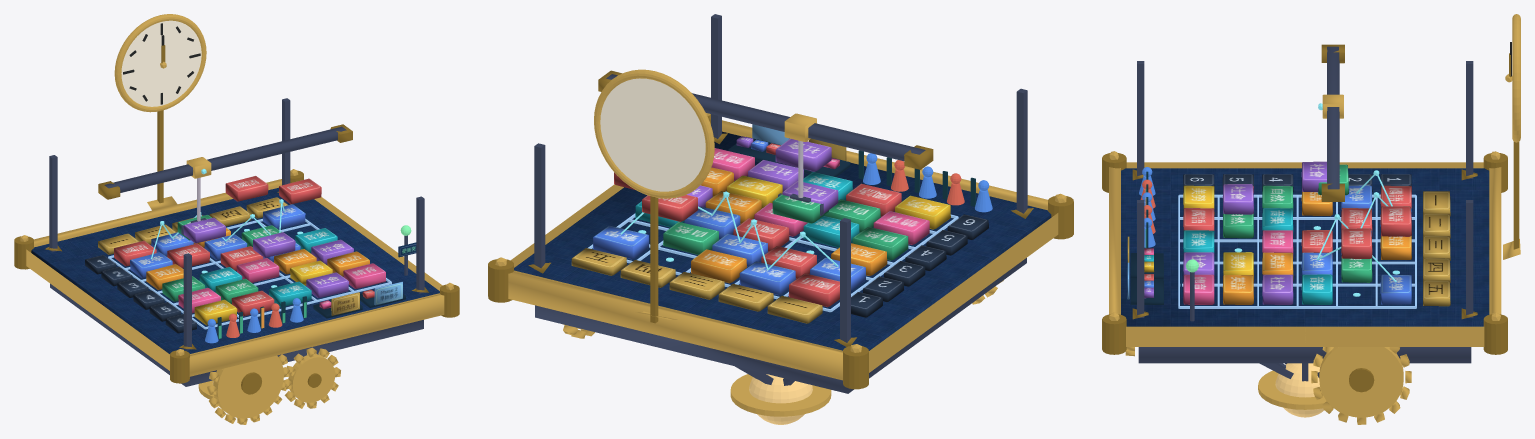
The model's file is scheduling.glb.
3 renders of one model, left to right at view 1: azimuth 30°, elevation 25°; view 2: azimuth 150°, elevation 25°; view 3: azimuth 270°, elevation 25°, orthographic. The views are drawn at different scales.
Parts seen in each view (by area): view 1: engine_brass, engine_board, engine_steel_dark, engine_dial, geara_brass, gantrybridge_steel_dark, engine_subj_數學, engine_subj_國語, engine_brass_dark, gearb_brass, engine_subj_體育, engine_subj_英語 (+19 smaller); view 2: engine_brass, engine_board, engine_steel_dark, engine_dial, engine_subj_數學, engine_subj_國語, engine_brass_dark, engine_subj_英語, engine_subj_自然, gantrybridge_steel_dark, engine_subj_體育, engine_subj_美勞 (+25 smaller); view 3: engine_board, engine_brass, engine_steel_dark, gearc_brass, engine_brass_dark, engine_grid_line, engine_subj_英語, engine_subj_國語, engine_subj_音樂, engine_subj_數學, engine_subj_自然, gantrybridge_steel_dark (+21 smaller).
Boxes of the visible parts, x1=… form: engine_brass: x1=20, y1=14, x2=453, y2=399; engine_board: x1=31, y1=187, x2=439, y2=353; engine_steel_dark: x1=49, y1=98, x2=424, y2=386; engine_dial: x1=121, y1=20, x2=201, y2=106; geara_brass: x1=207, y1=354, x2=289, y2=424; gantrybridge_steel_dark: x1=104, y1=126, x2=346, y2=192; engine_subj_數學: x1=130, y1=204, x2=305, y2=277; engine_subj_國語: x1=114, y1=240, x2=274, y2=316; engine_brass_dark: x1=14, y1=110, x2=459, y2=383; gearb_brass: x1=283, y1=347, x2=340, y2=408; engine_subj_體育: x1=178, y1=258, x2=385, y2=313; engine_subj_英語: x1=146, y1=228, x2=369, y2=289; engine_brass: x1=495, y1=69, x2=1066, y2=416; engine_board: x1=514, y1=131, x2=1051, y2=350; engine_steel_dark: x1=534, y1=14, x2=1027, y2=393; engine_dial: x1=600, y1=78, x2=705, y2=191; engine_subj_數學: x1=593, y1=206, x2=865, y2=295; engine_subj_國語: x1=733, y1=183, x2=901, y2=307; engine_brass_dark: x1=488, y1=114, x2=1073, y2=389; engine_subj_英語: x1=691, y1=167, x2=887, y2=283; engine_subj_自然: x1=663, y1=199, x2=908, y2=260; gantrybridge_steel_dark: x1=606, y1=74, x2=925, y2=161; engine_subj_體育: x1=711, y1=148, x2=929, y2=244; engine_subj_美勞: x1=727, y1=175, x2=950, y2=229; engine_board: x1=1121, y1=168, x2=1489, y2=326; engine_brass: x1=1109, y1=14, x2=1520, y2=409; engine_steel_dark: x1=1137, y1=61, x2=1473, y2=381; gearc_brass: x1=1311, y1=347, x2=1411, y2=424; engine_brass_dark: x1=1102, y1=141, x2=1519, y2=354; engine_grid_line: x1=1178, y1=194, x2=1416, y2=308; engine_subj_英語: x1=1222, y1=191, x2=1411, y2=304; engine_subj_國語: x1=1183, y1=185, x2=1411, y2=258; engine_subj_音樂: x1=1183, y1=208, x2=1332, y2=304; engine_subj_數學: x1=1301, y1=185, x2=1411, y2=304; engine_subj_自然: x1=1222, y1=185, x2=1372, y2=282; gantrybridge_steel_dark: x1=1327, y1=46, x2=1339, y2=189.
Size of the model in its own units: 4.32 by 4.7 by 4.46.
28 materials, 28 textured.
